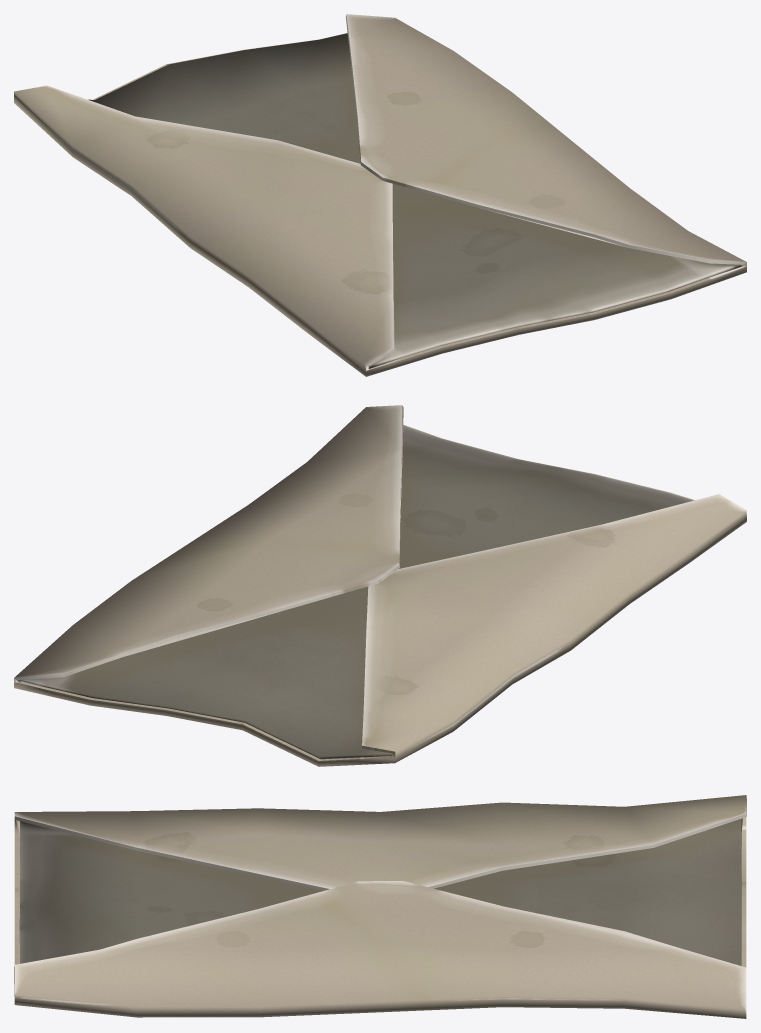
File: letter.obj
3 renders of one model, top to bottom at view 1: azimuth 30°, elevation 25°; view 2: azimuth 150°, elevation 25°; view 3: azimuth 270°, elevation 25°, orthographic. The views are drawn at different scales.
Visible parts, largest first — view 1: obj1; view 2: obj1; view 3: obj1.
Boxes of the visible parts, x1,y1,x2,y2 form: obj1: (14,14,746,376); obj1: (14,405,746,766); obj1: (14,795,746,1018).
Size of the model in its own units: 44.4 by 4.48 by 71.12.
Materials: 1 (1 with a texture image).
